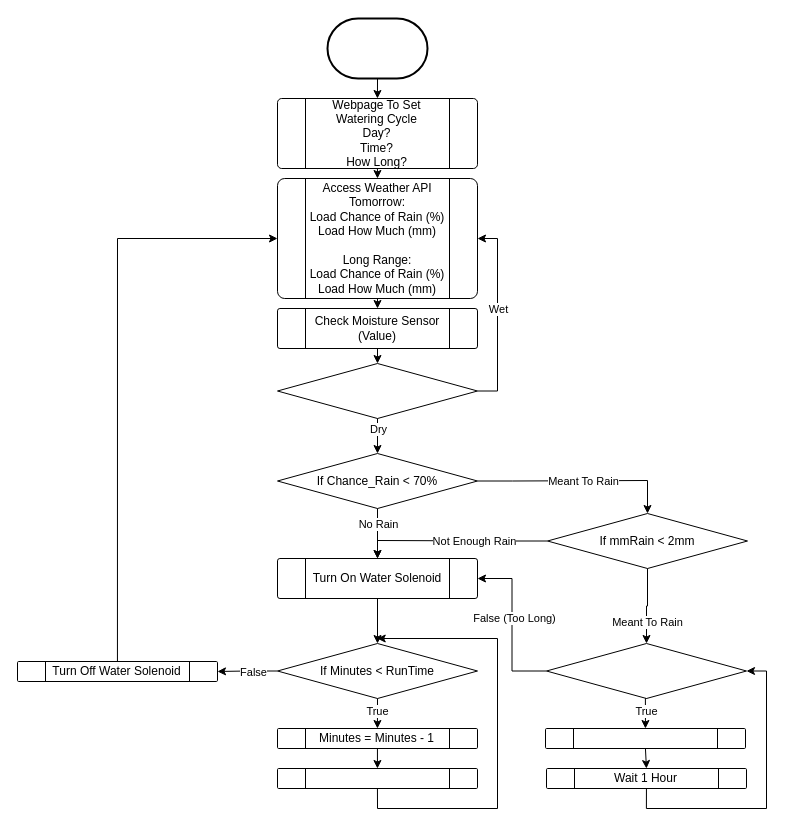
This 792x834 diagram has some shape labels left out. The centre of each missing label's shape, as x and y in pixels:
"Hour = Hour + 1" belongs at (645,738).
"If Hours < 24" belongs at (646,670).
"If Sensor_Value < Threshold" belongs at (377,390).
"User Types URL" belongs at (377,48).
"Wait 1 Minute" belongs at (377,778).
